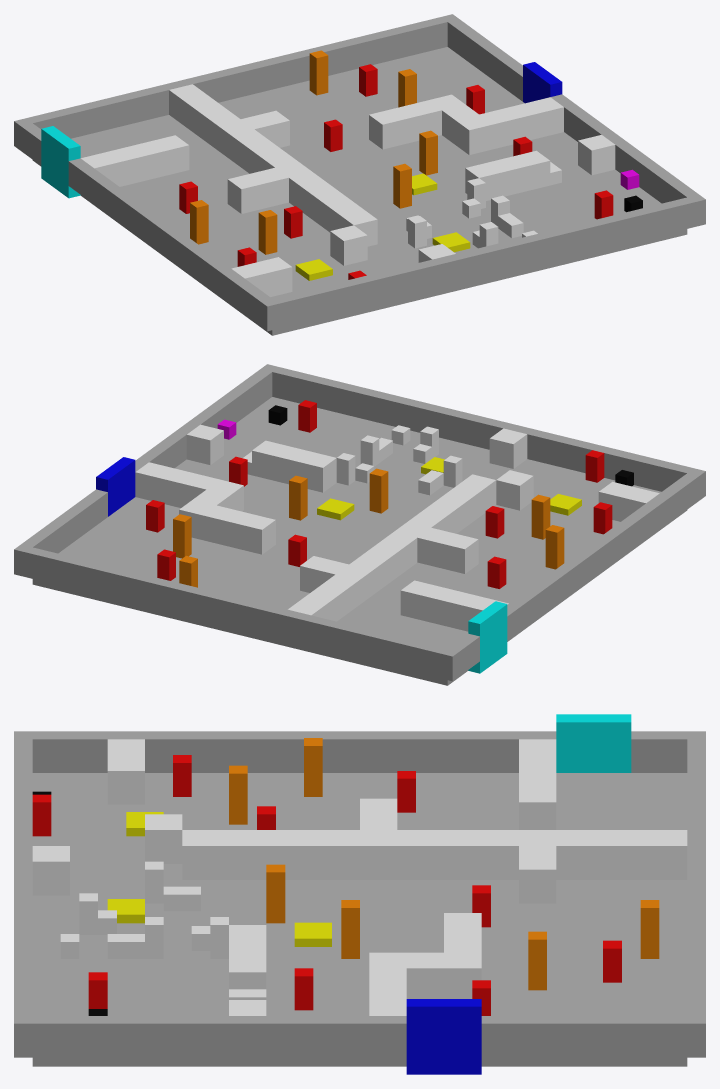
The model's file is level1_B6V2_35.fbx.
3 renders of one model, top to bottom at view 1: azimuth 30°, elevation 25°; view 2: azimuth 150°, elevation 25°; view 3: azimuth 270°, elevation 25°, orthographic. The views are drawn at different scales.
Visible parts, largest first — view 1: pCube43, pCube44, pCube45, pCube13, pCube46, pCube4, pCube35, pCube30, pCube5, pCube47, Antena, Antena5 (+11 smaller); view 2: pCube43, pCube44, pCube45, pCube46, pCube13, pCube4, pCube5, pCube35, pCube12, pCube30, Antena3, Antena1 (+17 smaller); view 3: pCube43, pCube44, pCube45, pCube5, pCube4, pCube46, pCube13, pCube35, pCube12, pCube47, pCube48, Antena3 (+16 smaller).
Part boxes in pixels (bbox=[...]): pCube43: bbox=[14, 14, 705, 335]; pCube44: bbox=[169, 84, 377, 265]; pCube45: bbox=[369, 94, 563, 154]; pCube13: bbox=[81, 135, 189, 186]; pCube46: bbox=[465, 150, 561, 208]; pCube4: bbox=[41, 126, 80, 198]; pCube35: bbox=[231, 257, 292, 296]; pCube30: bbox=[578, 135, 615, 175]; pCube5: bbox=[523, 62, 562, 103]; pCube47: bbox=[491, 195, 523, 238]; Antena: bbox=[258, 210, 277, 254]; Antena5: bbox=[309, 50, 328, 95]; pCube43: bbox=[14, 364, 705, 685]; pCube44: bbox=[288, 470, 533, 621]; pCube45: bbox=[135, 462, 275, 554]; pCube46: bbox=[243, 440, 355, 492]; pCube13: bbox=[400, 580, 508, 631]; pCube4: bbox=[468, 601, 507, 673]; pCube5: bbox=[96, 457, 135, 516]; pCube35: bbox=[598, 481, 659, 521]; pCube12: bbox=[489, 428, 527, 468]; pCube30: bbox=[186, 424, 223, 465]; Antena3: bbox=[369, 468, 388, 513]; Antena1: bbox=[545, 525, 564, 569]; pCube43: bbox=[14, 731, 705, 1066]; pCube44: bbox=[145, 798, 687, 903]; pCube45: bbox=[369, 913, 481, 1015]; pCube5: bbox=[406, 999, 481, 1074]; pCube4: bbox=[556, 714, 631, 772]; pCube46: bbox=[210, 917, 266, 999]; pCube13: bbox=[519, 739, 556, 829]; pCube35: bbox=[107, 739, 144, 804]; pCube12: bbox=[32, 846, 69, 895]; pCube47: bbox=[107, 917, 163, 958]; pCube48: bbox=[79, 893, 116, 934]; Antena3: bbox=[266, 864, 285, 923].
Size of the model in its own units: 37 by 4.5 by 37.
